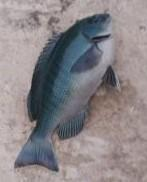fish: (14, 13, 121, 173)
